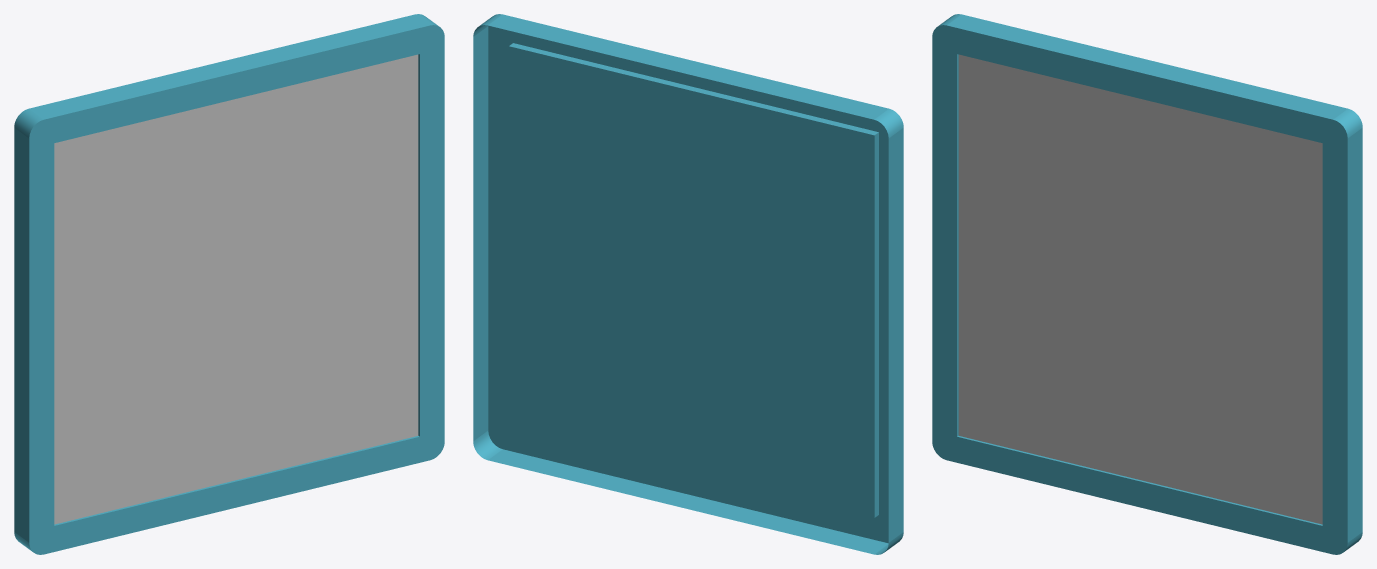
File: Information Panel.fbx
3 views of the same model, side by side, from view 1: azimuth 30°, elevation 25°; view 2: azimuth 150°, elevation 25°; view 3: azimuth 330°, elevation 25° (orthographic).
Visible parts, largest first — view 1: Information_Panel; view 2: Information_Panel; view 3: Information_Panel.
Part boxes in pixels (<box>): Information_Panel: <box>14,14,444,554</box>; Information_Panel: <box>473,14,903,554</box>; Information_Panel: <box>932,14,1362,554</box>.
Bounding box in the file's own units: 30.99 × 30.99 × 1.95.
